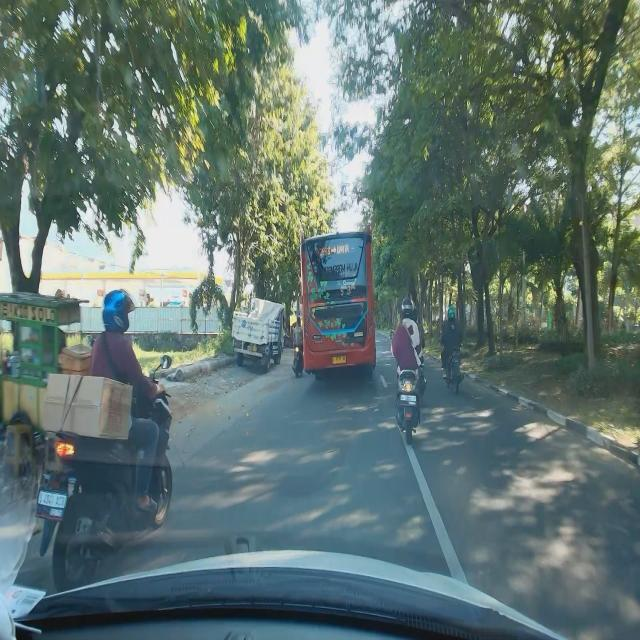bus: (298, 222, 377, 384)
license-plate: (332, 356, 347, 364), (248, 345, 258, 352)
truck: (231, 295, 285, 368)
